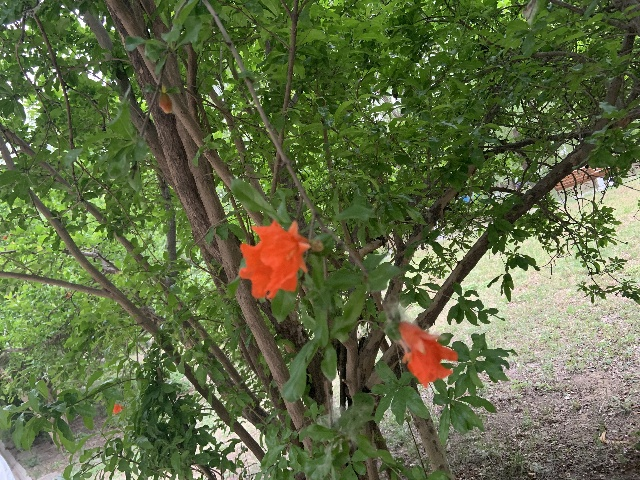bud: (159, 94, 173, 114)
flower: (238, 218, 310, 299), (397, 321, 457, 388), (112, 403, 123, 414)
